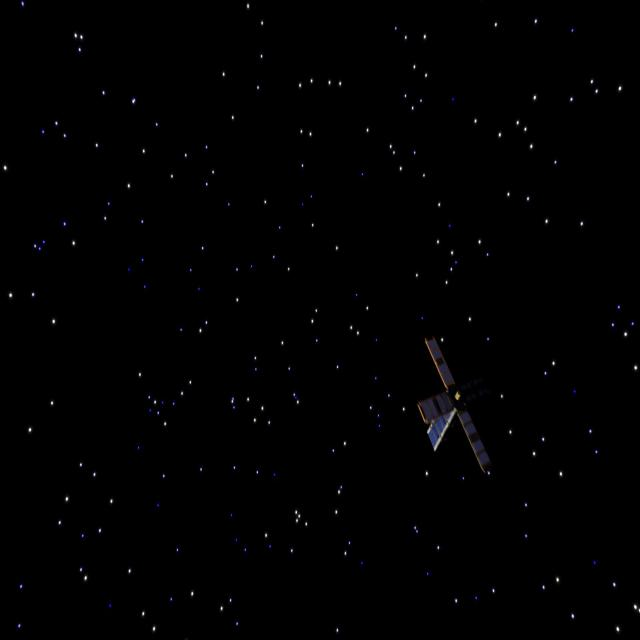medium_debris: (416, 324, 496, 480)
